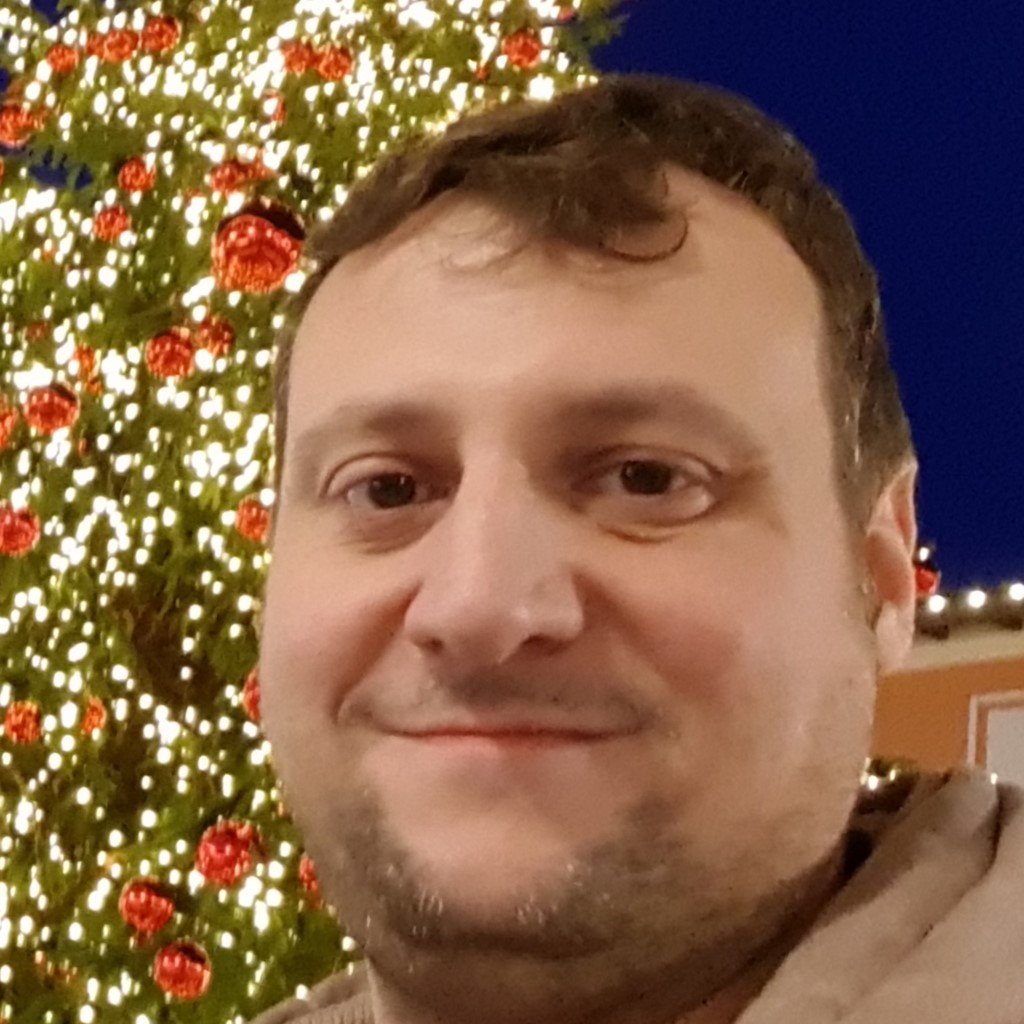sin_mascara: (266, 148, 887, 994)
